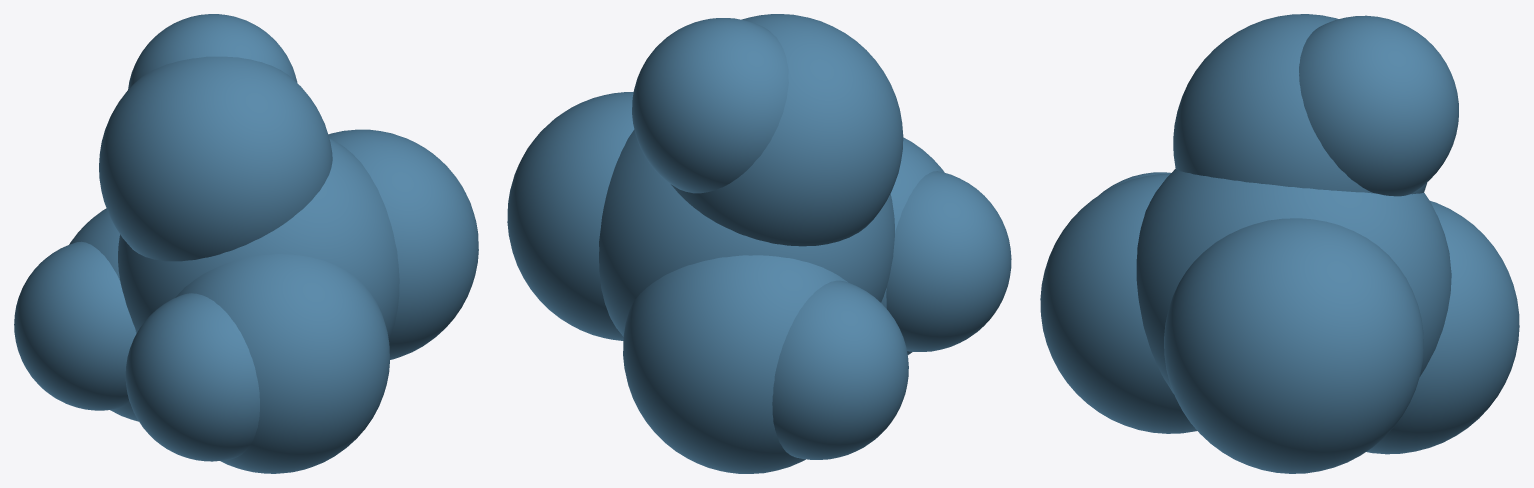
File: 1004-CPK-print_NIH3D.glb
3 views of the same model, side by side, from view 1: azimuth 30°, elevation 25°; view 2: azimuth 150°, elevation 25°; view 3: azimuth 270°, elevation 25° (orthographic). The views are drawn at different scales.
Visible parts, largest first — view 1: atoms; view 2: atoms; view 3: atoms.
Part boxes in pixels (bbox=[...]): atoms: bbox=[14, 14, 478, 473]; atoms: bbox=[507, 14, 1011, 473]; atoms: bbox=[1040, 14, 1519, 473].
Bounding box in the file's own units: 5.82 × 5.54 × 5.52.
